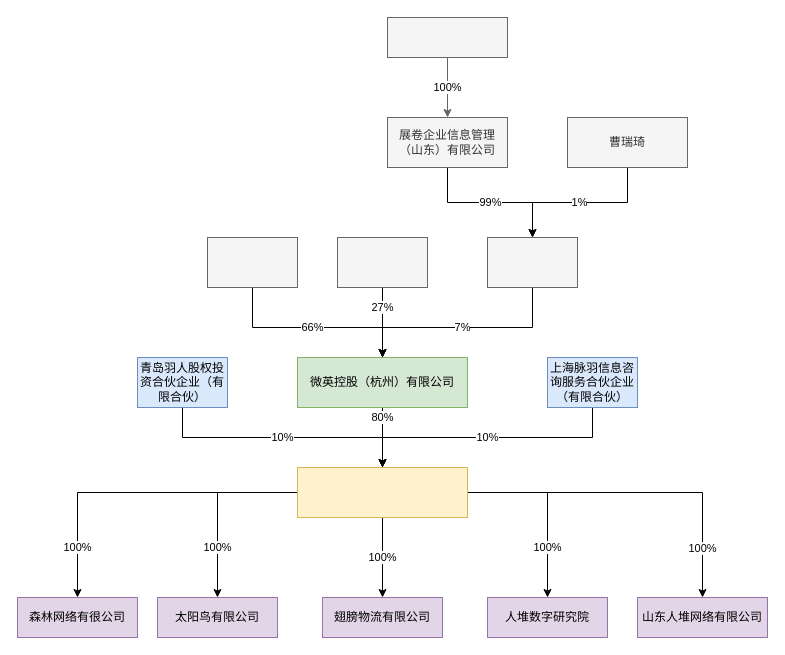
This 785x655 diagram has some shape labels left out. Here are the shapes that lost their labels. From the top down, the box of each, then its label:
(386, 16, 508, 58): 韩学锋
(206, 236, 298, 288): 戴延涛
(336, 236, 428, 288): 闫凤喜
(486, 236, 578, 288): 上海佰认信息咨询服务有限公司
(296, 466, 468, 518): 人堆网络有限公司
